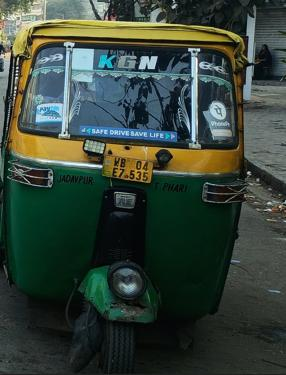Auto: (4, 18, 255, 375)
